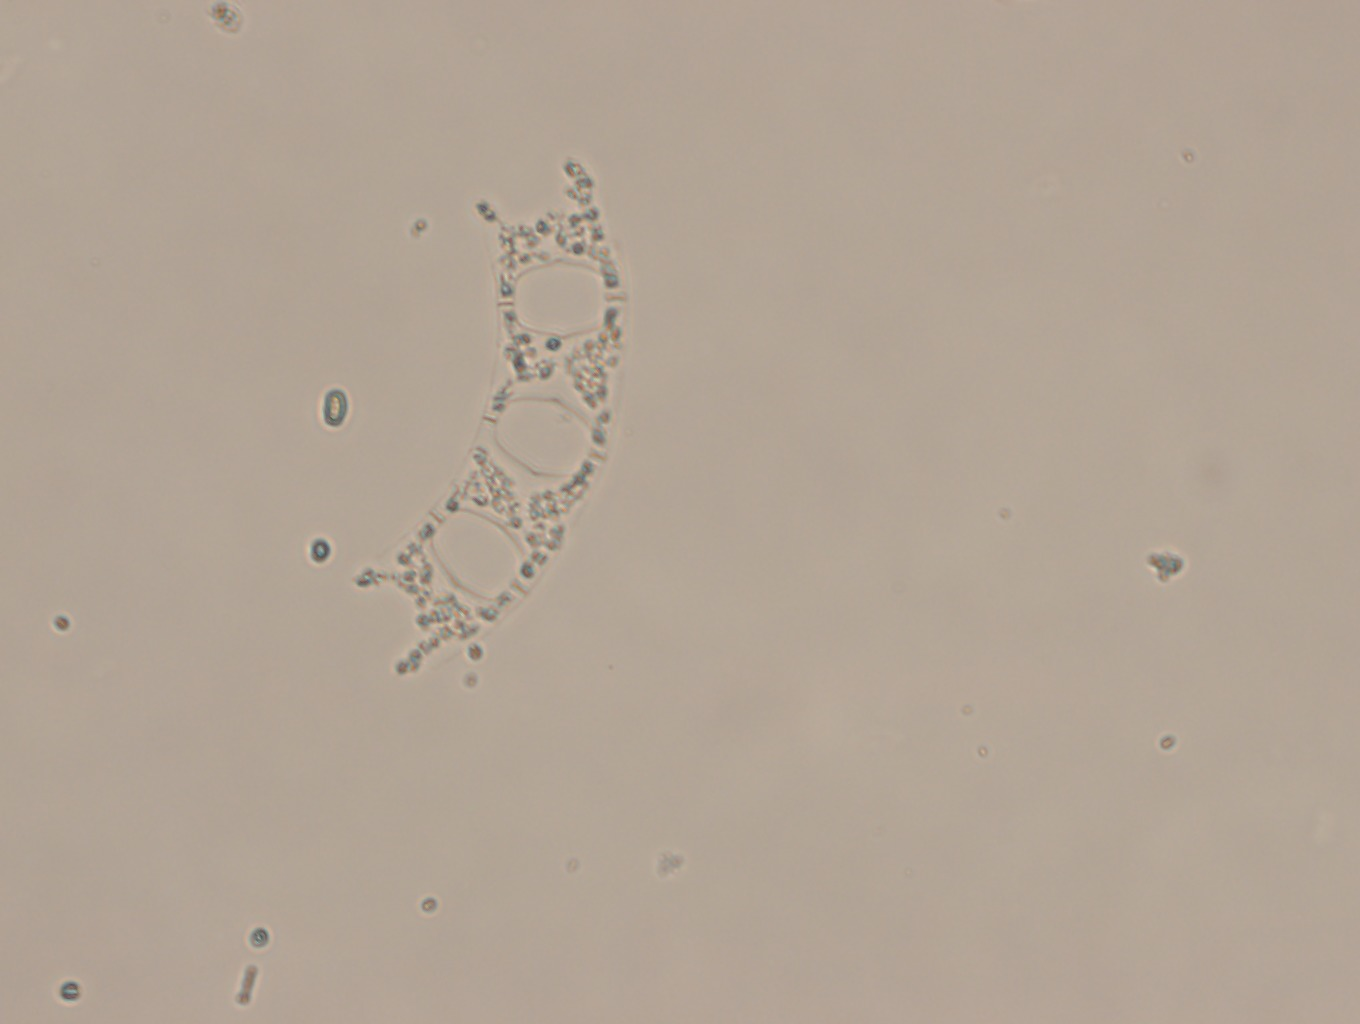eucampia: (350, 162, 629, 680)
